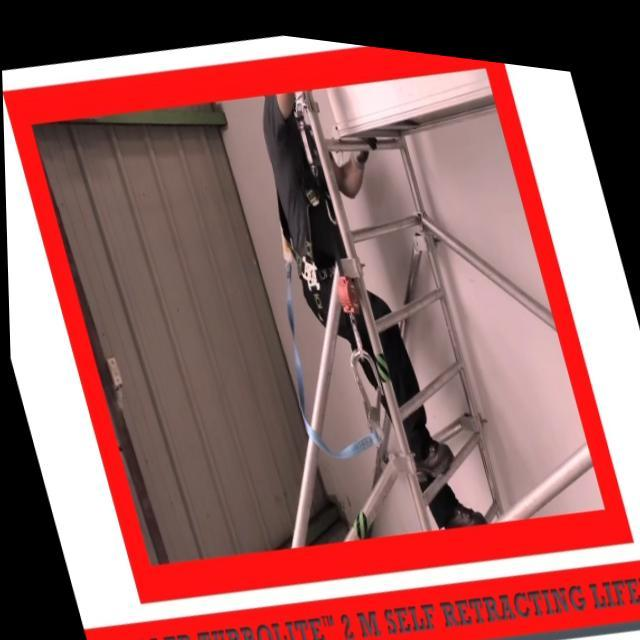belt: (238, 62, 372, 344)
